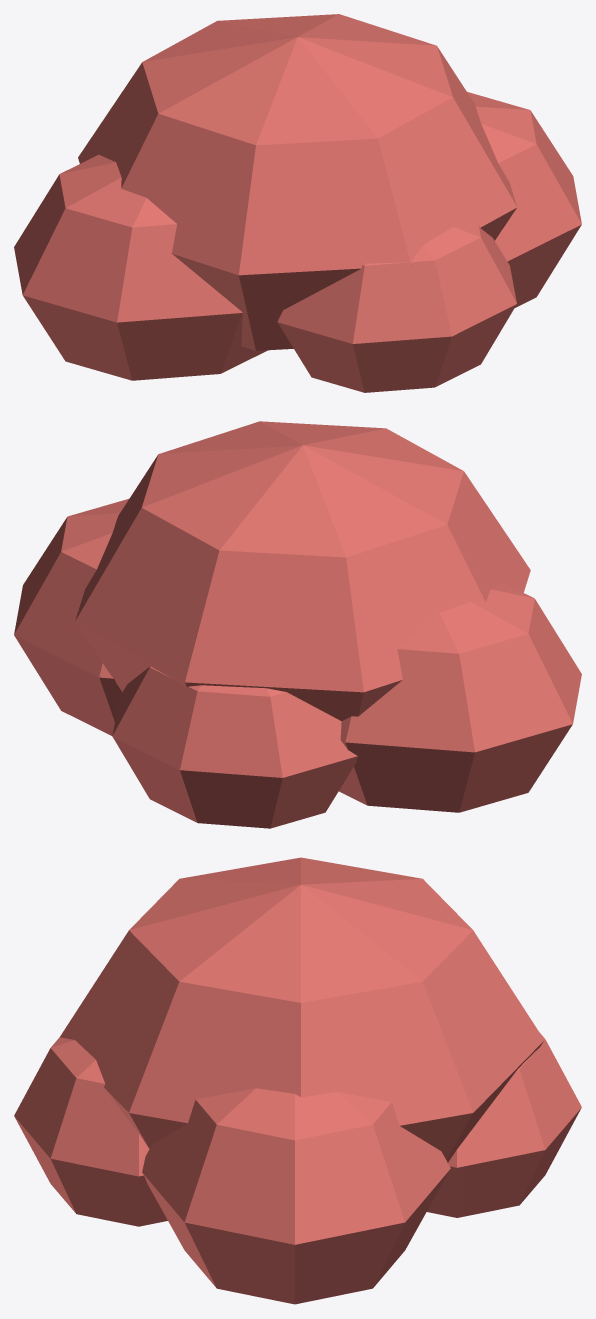
The model's file is t5_tree_leaves.glb.
3 renders of one model, top to bottom at view 1: azimuth 30°, elevation 25°; view 2: azimuth 150°, elevation 25°; view 3: azimuth 270°, elevation 25°, orthographic. The views are drawn at different scales.
Visible parts, largest first — view 1: Leaf_Center, Leaf_Left, Leaf_Back, Leaf_Right; view 2: Leaf_Center, Leaf_Left, Leaf_Front, Leaf_Right; view 3: Leaf_Center, Leaf_Right, Leaf_Back, Leaf_Front.
Boxes of the visible parts, box(x1,y1,x2,y2) form: Leaf_Center: box(78, 14, 517, 350); Leaf_Left: box(14, 154, 267, 380); Leaf_Back: box(277, 225, 516, 392); Leaf_Right: box(467, 92, 581, 307); Leaf_Center: box(75, 421, 530, 721); Leaf_Left: box(339, 583, 581, 812); Leaf_Front: box(112, 666, 357, 828); Leaf_Right: box(14, 499, 128, 735); Leaf_Center: box(60, 857, 544, 1162); Leaf_Right: box(142, 1088, 450, 1304); Leaf_Back: box(14, 1037, 167, 1226); Leaf_Front: box(427, 1033, 581, 1217).
Bounding box in the file's own units: 2.14 × 1.18 × 1.82.
